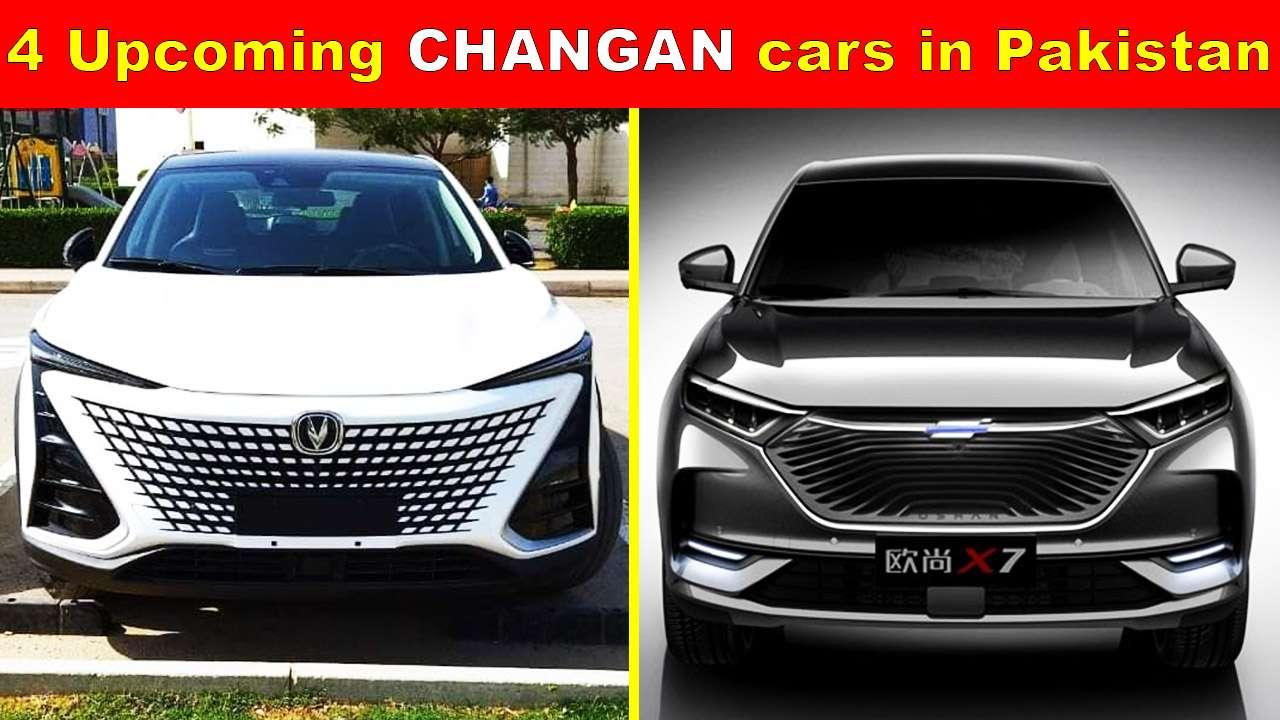windshield: (738, 164, 1176, 308), (97, 166, 502, 268)
